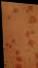plaque psoriasis: (23, 28, 35, 47), (1, 36, 15, 51), (12, 48, 22, 68), (25, 12, 38, 24), (32, 58, 38, 68), (25, 2, 32, 10), (5, 12, 11, 20), (12, 6, 17, 13)
